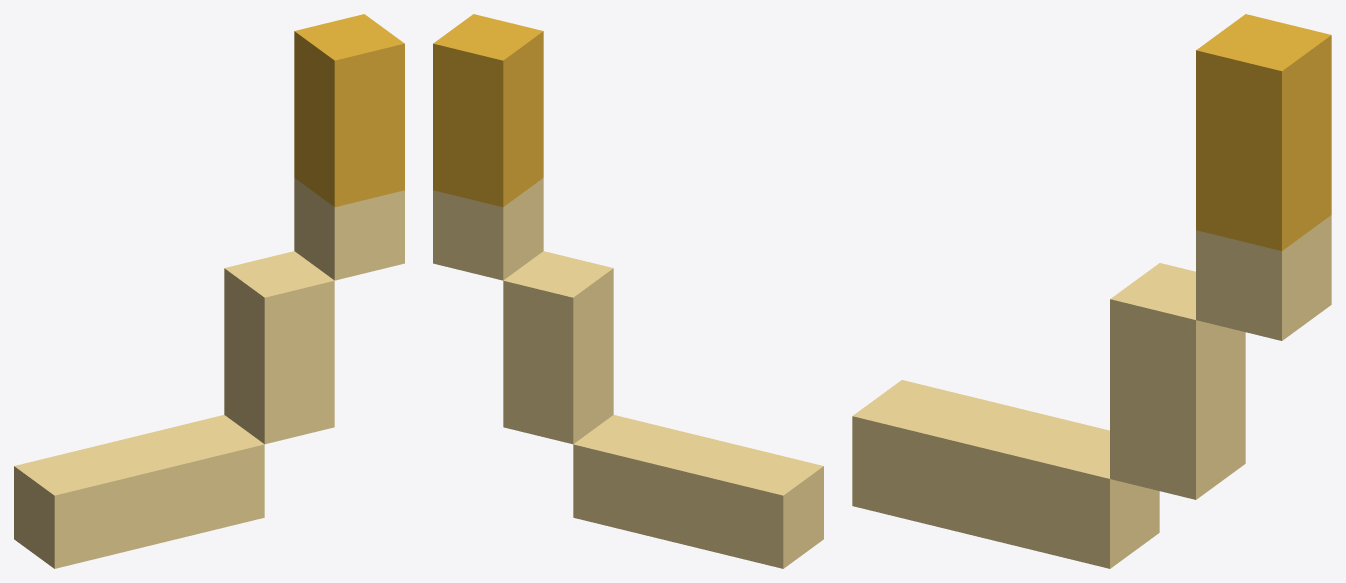
File: thymea-9-right_hand_attack.obj
3 renders of one model, left to right at view 1: azimuth 30°, elevation 25°; view 2: azimuth 150°, elevation 25°; view 3: azimuth 330°, elevation 25°, orthographic. The views are drawn at different scales.
Parts seen in each view (by area): view 1: right_hand_attack; view 2: right_hand_attack; view 3: right_hand_attack.
Boxes of the visible parts, x1,y1,x2,y2 form: right_hand_attack: (14, 14, 404, 568); right_hand_attack: (433, 14, 823, 568); right_hand_attack: (852, 14, 1331, 568).
Bounding box in the file's own units: 0.5 × 0.6 × 0.1.
1 material, 1 textured.
